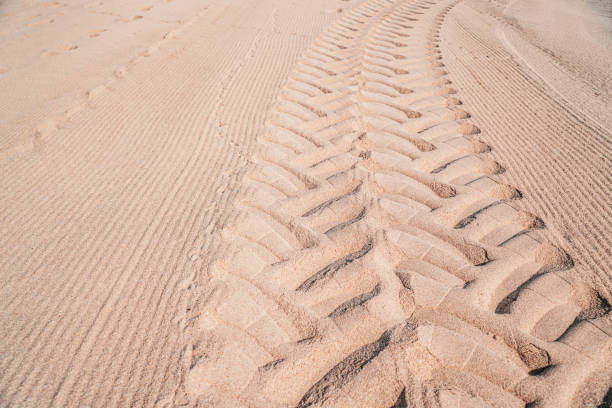vehicle_track: (187, 0, 611, 406)
